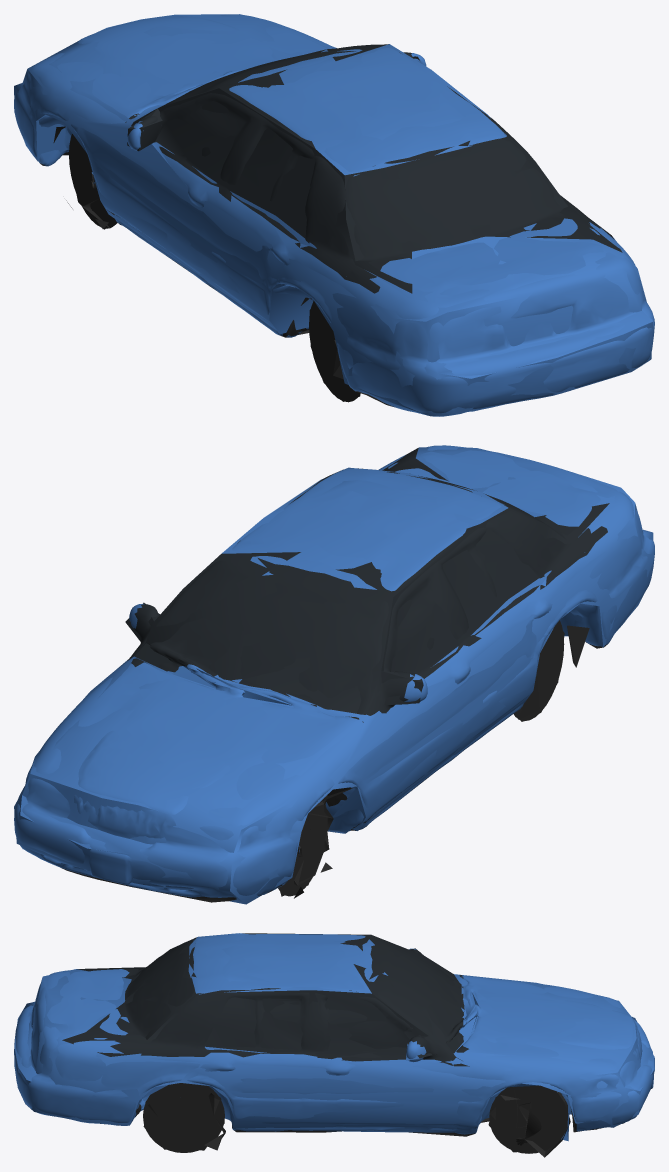
Rendered from mercury-grand-marquis.glb.
3 renders of one model, top to bottom at view 1: azimuth 30°, elevation 25°; view 2: azimuth 150°, elevation 25°; view 3: azimuth 270°, elevation 25°, orthographic. The views are drawn at different scales.
Parts seen in each view (by area): view 1: body, far; view 2: body, far; view 3: body, far.
Boxes of the visible parts, x1,y1,x2,y2 form: body: (14,14,654,416); far: (14,14,652,416); body: (14,445,654,902); far: (14,447,653,904); body: (14,934,654,1157); far: (14,933,654,1152).
Bounding box in the file's own units: 2.09 × 1.52 × 5.45.
